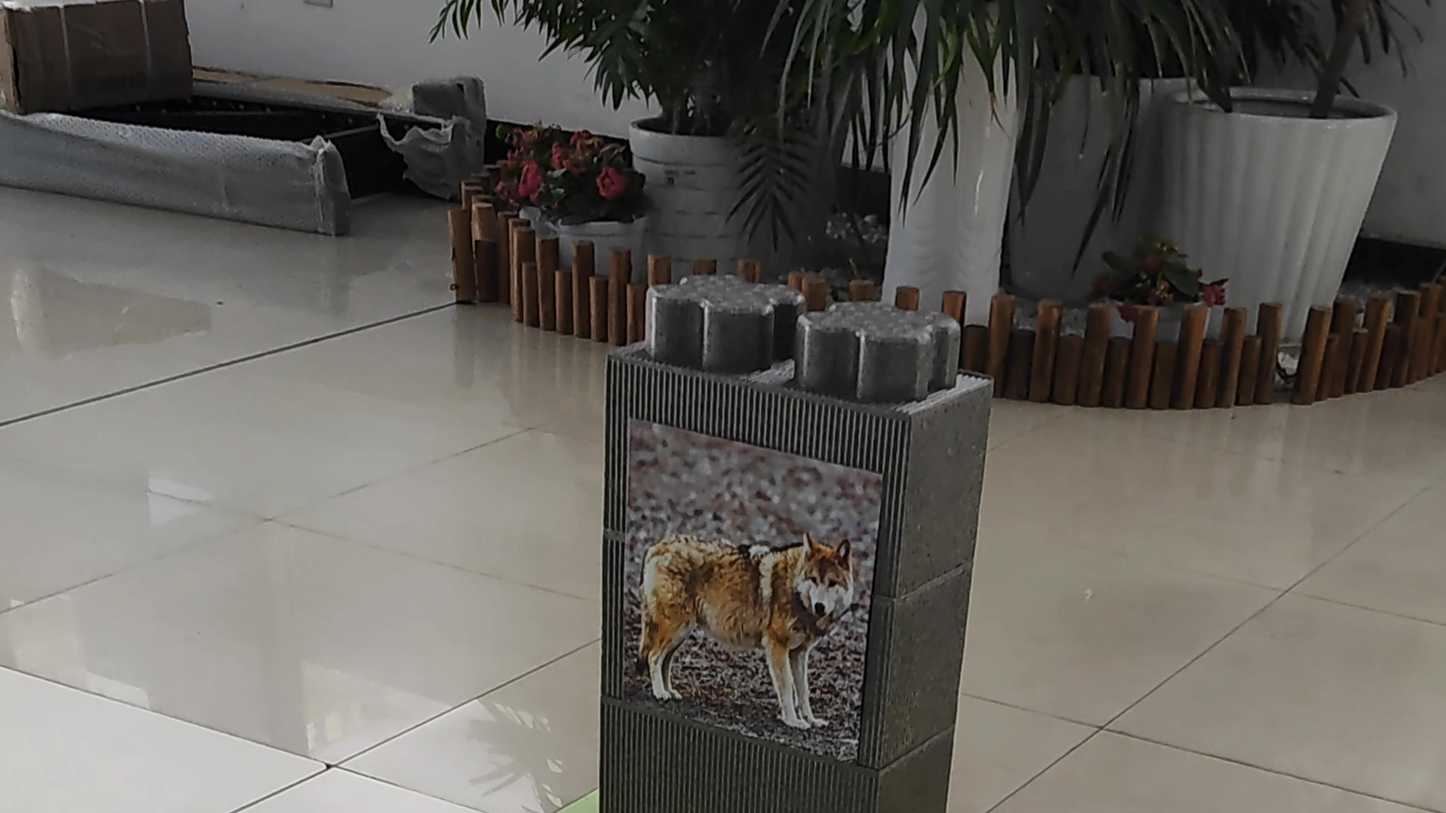wolf: (624, 487, 859, 744)
